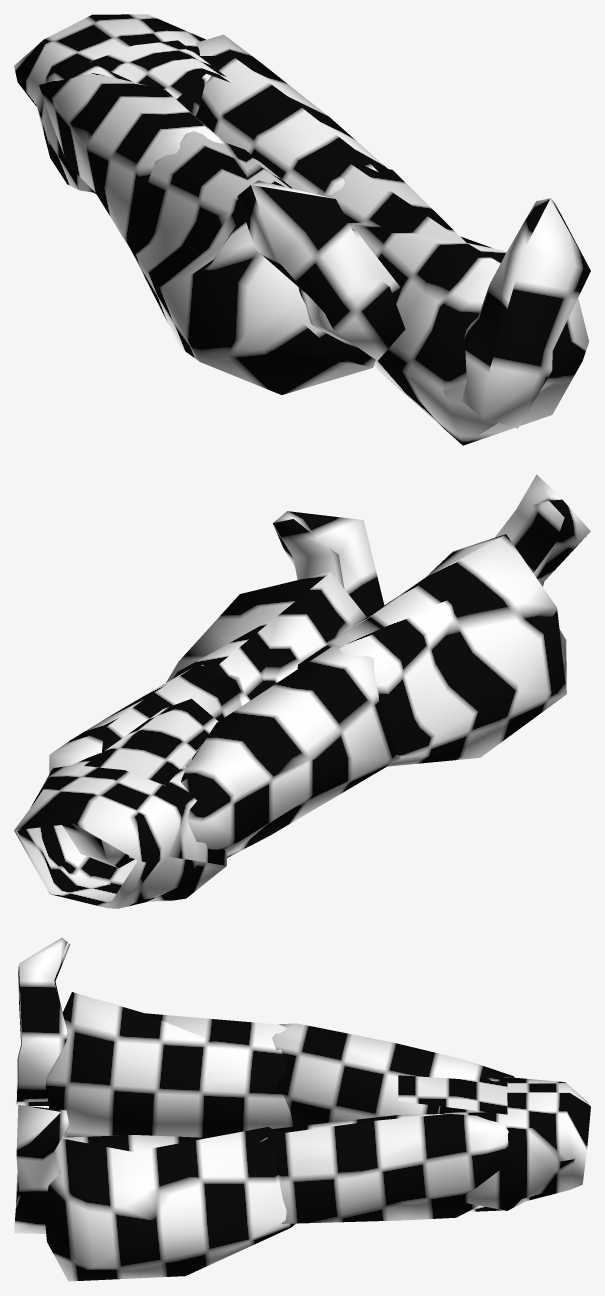
Rendered from initarlg10.dae.
3 views of the same model, one above another, from view 1: azimuth 30°, elevation 25°; view 2: azimuth 150°, elevation 25°; view 3: azimuth 270°, elevation 25° (orthographic). The views are drawn at different scales.
Parts seen in each view (by area): view 1: armor; view 2: armor; view 3: armor.
Part boxes in pixels (x1,y1,x2,y2): armor: (14, 14, 590, 445); armor: (14, 474, 590, 908); armor: (14, 937, 590, 1281).
Bounding box in the file's own units: 0.9502 × 1.63 × 0.743.
1 material, 1 textured.
